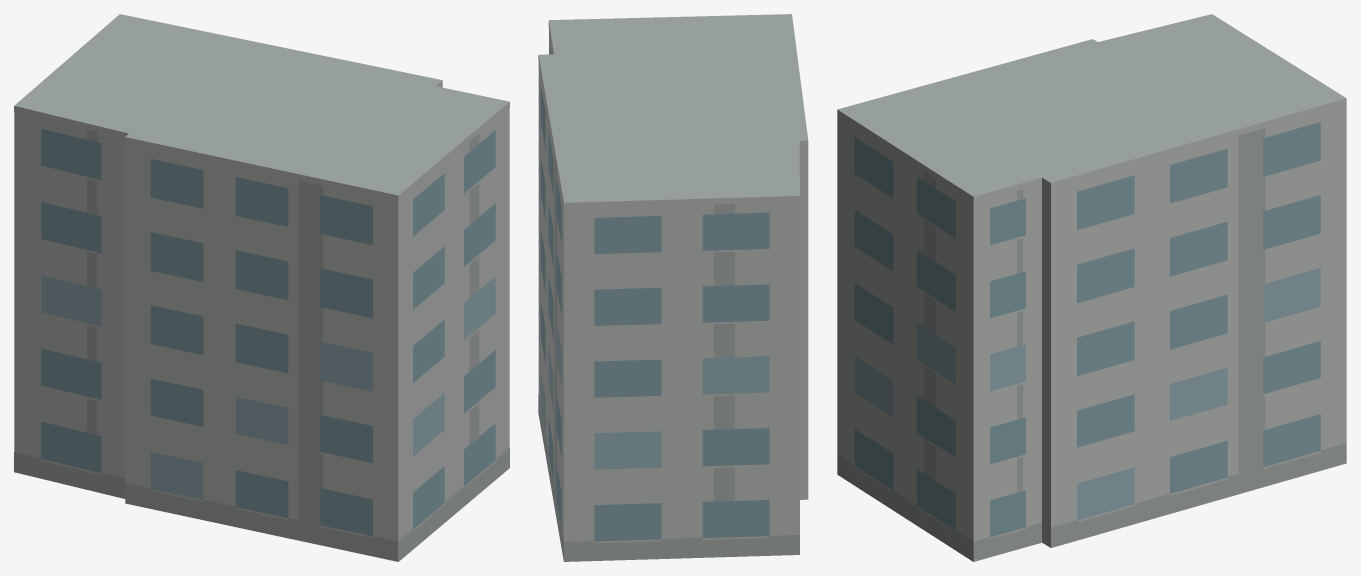
Rendered from survey-upis-32971048.glb.
3 renders of one model, left to right at view 1: azimuth 30°, elevation 25°; view 2: azimuth 150°, elevation 25°; view 3: azimuth 270°, elevation 25°, orthographic. The views are drawn at different scales.
Parts seen in each view (by area): view 1: survey-upis-32971048.tmp; view 2: survey-upis-32971048.tmp; view 3: survey-upis-32971048.tmp.
Part boxes in pixels (x1=…): survey-upis-32971048.tmp: x1=14, y1=14, x2=509, y2=561; survey-upis-32971048.tmp: x1=538, y1=14, x2=808, y2=561; survey-upis-32971048.tmp: x1=837, y1=14, x2=1346, y2=561.
Bounding box in the file's own units: 15.04 × 14 × 17.71.
